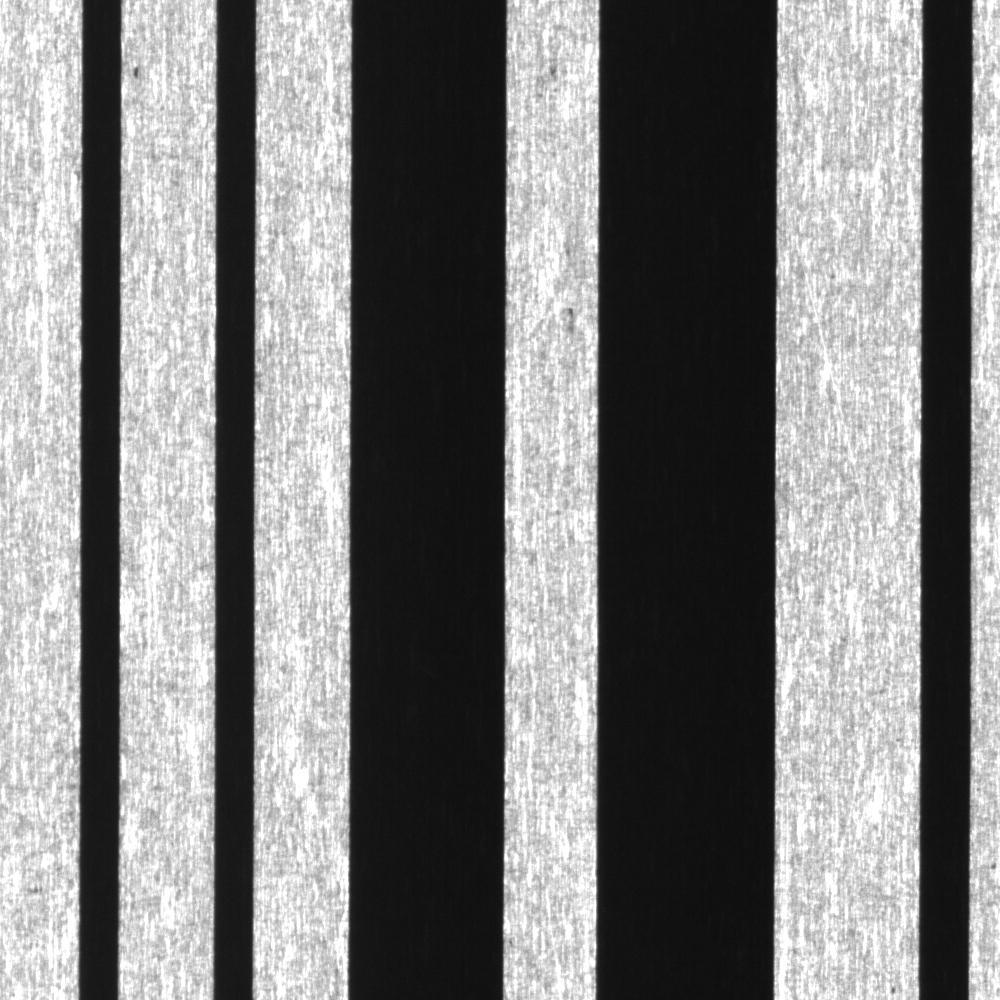Etching: (556, 239, 582, 339), (123, 45, 158, 95)
